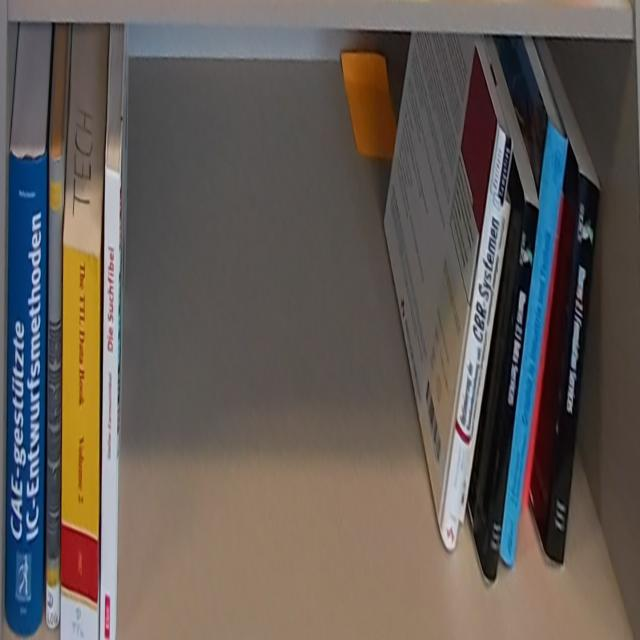Book Spine: (440, 128, 514, 552), (501, 118, 568, 567), (546, 171, 602, 567), (484, 197, 540, 585), (6, 149, 47, 633), (61, 245, 100, 639), (99, 173, 121, 640), (45, 144, 62, 632)
